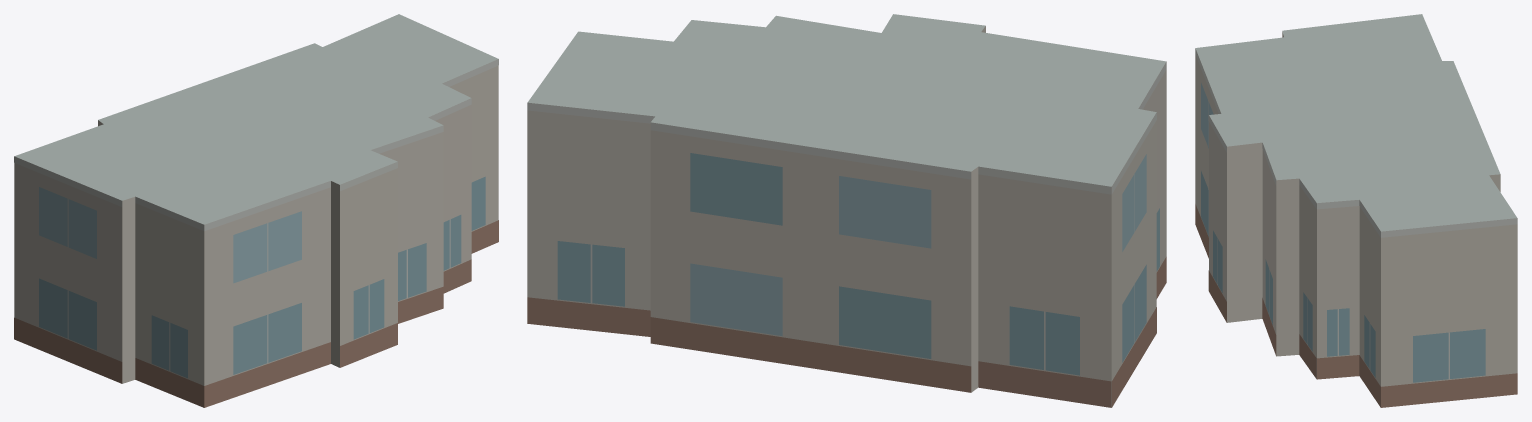
Rendered from survey-upis-32634351.glb.
The picture shows the model from 3 angles, left to right: view 1: azimuth 30°, elevation 25°; view 2: azimuth 150°, elevation 25°; view 3: azimuth 270°, elevation 25°; orthographic projection. The views are drawn at different scales.
Visible parts, largest first — view 1: survey-upis-32634351.tmp; view 2: survey-upis-32634351.tmp; view 3: survey-upis-32634351.tmp.
Part boxes in pixels (bbox=[...]): survey-upis-32634351.tmp: bbox=[14, 14, 498, 407]; survey-upis-32634351.tmp: bbox=[527, 14, 1166, 407]; survey-upis-32634351.tmp: bbox=[1195, 14, 1517, 407].
Size of the model in its own units: 18.28 by 6.9 by 11.44.
